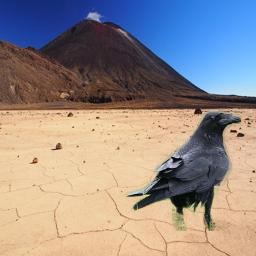Crow: (125, 111, 241, 231)
